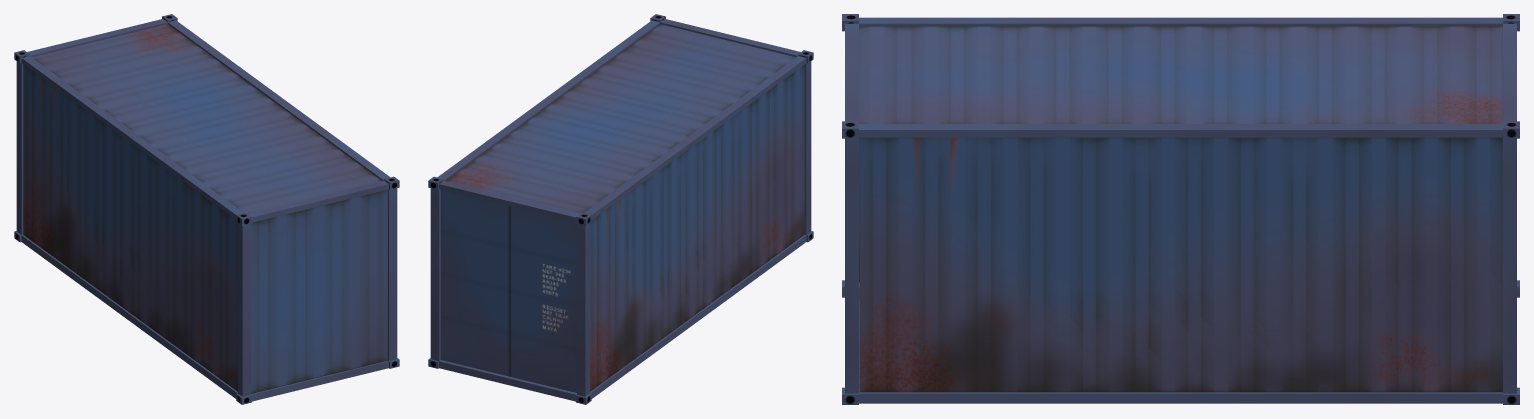
The model's file is container.FBX.
The picture shows the model from 3 angles, left to right: view 1: azimuth 30°, elevation 25°; view 2: azimuth 150°, elevation 25°; view 3: azimuth 270°, elevation 25°; orthographic projection. The views are drawn at different scales.
Parts seen in each view (by area): view 1: ContainerLow; view 2: ContainerLow; view 3: ContainerLow.
Boxes of the visible parts, x1,y1,x2,y2 form: ContainerLow: (14, 14, 399, 404); ContainerLow: (428, 14, 813, 404); ContainerLow: (842, 14, 1519, 404).
Size of the model in its own units: 64.13 by 72.14 by 160.
